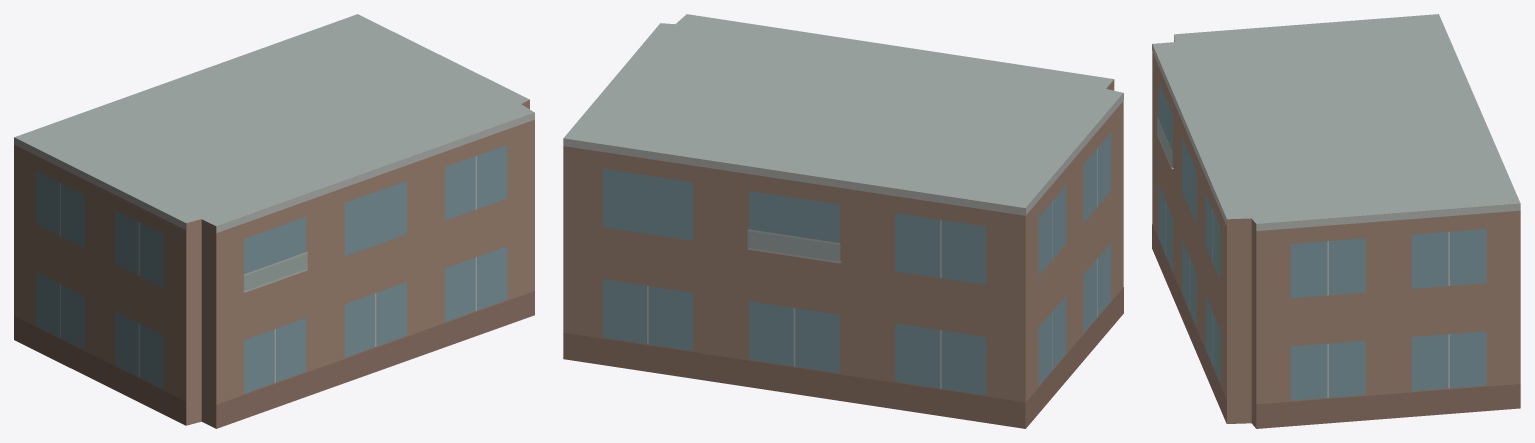
The model's file is survey-upis-33045994.glb.
3 views of the same model, side by side, from view 1: azimuth 30°, elevation 25°; view 2: azimuth 150°, elevation 25°; view 3: azimuth 270°, elevation 25° (orthographic). The views are drawn at different scales.
Parts seen in each view (by area): view 1: survey-upis-33045994.tmp; view 2: survey-upis-33045994.tmp; view 3: survey-upis-33045994.tmp.
Part boxes in pixels (x1,y1,x2,y2): survey-upis-33045994.tmp: [14, 14, 534, 428]; survey-upis-33045994.tmp: [563, 14, 1123, 428]; survey-upis-33045994.tmp: [1152, 14, 1520, 428].
Bounding box in the file's own units: 15.4 × 7 × 11.42.
